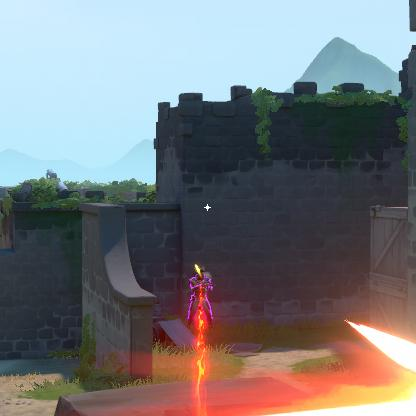enemyBody: (197, 269, 208, 331)
